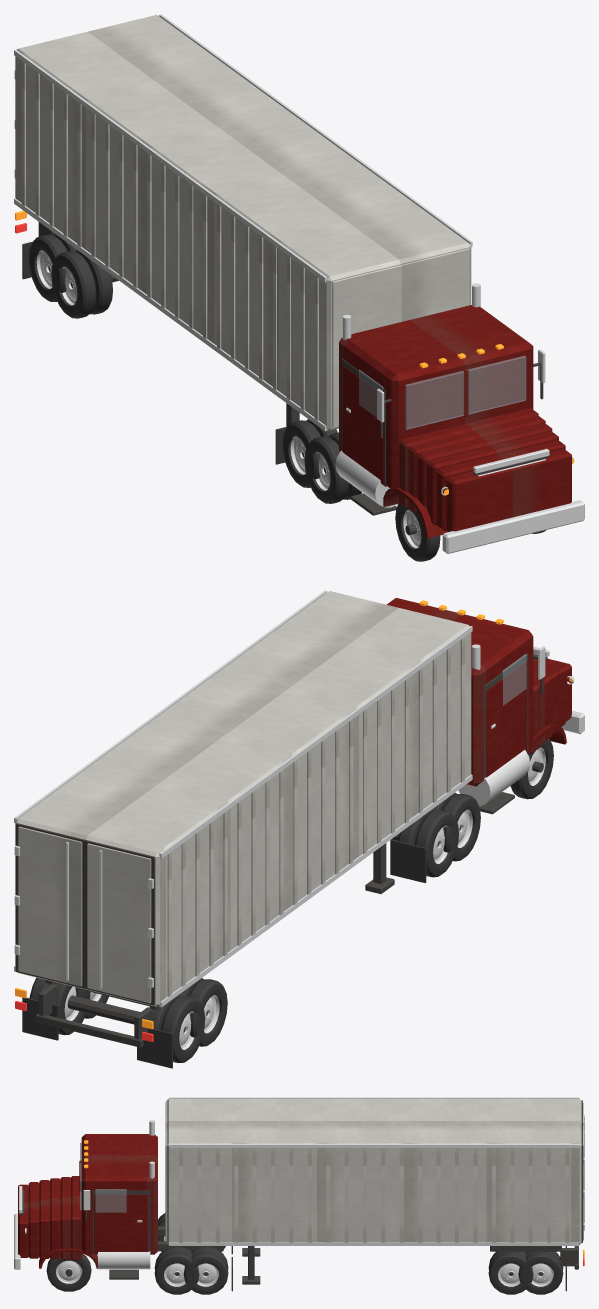
Rendered from hero-truck.glb.
3 views of the same model, one above another, from view 1: azimuth 30°, elevation 25°; view 2: azimuth 150°, elevation 25°; view 3: azimuth 270°, elevation 25° (orthographic). The views are drawn at different scales.
Visible parts, largest first — view 1: HeroTruck; view 2: HeroTruck; view 3: HeroTruck.
Boxes of the visible parts, left/top/right/bottom form: HeroTruck: left=14, top=14, right=584, bottom=561; HeroTruck: left=14, top=590, right=584, bottom=1068; HeroTruck: left=14, top=1097, right=584, bottom=1294.
Size of the model in its own units: 2.94 by 3.94 by 13.47.
Materials: 8 (2 with a texture image).
